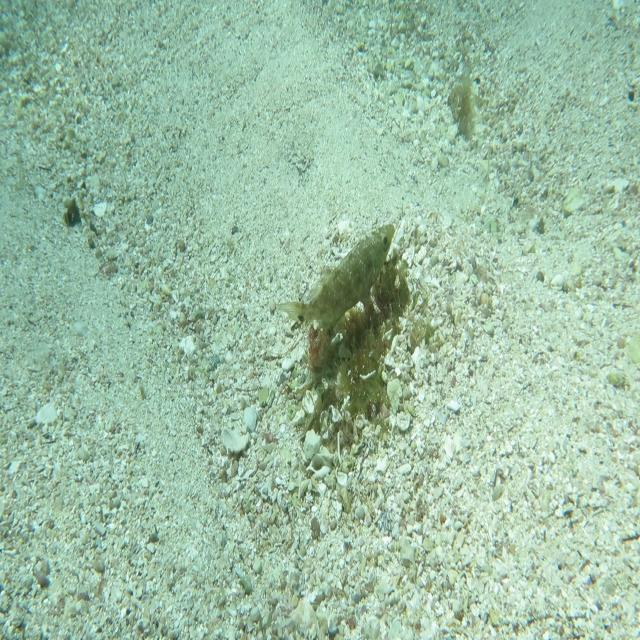FAN: (274, 222, 395, 332)
core_nest: (367, 285, 406, 324)
nest: (289, 248, 420, 457)
vegetation: (447, 71, 477, 138), (59, 196, 81, 228)
